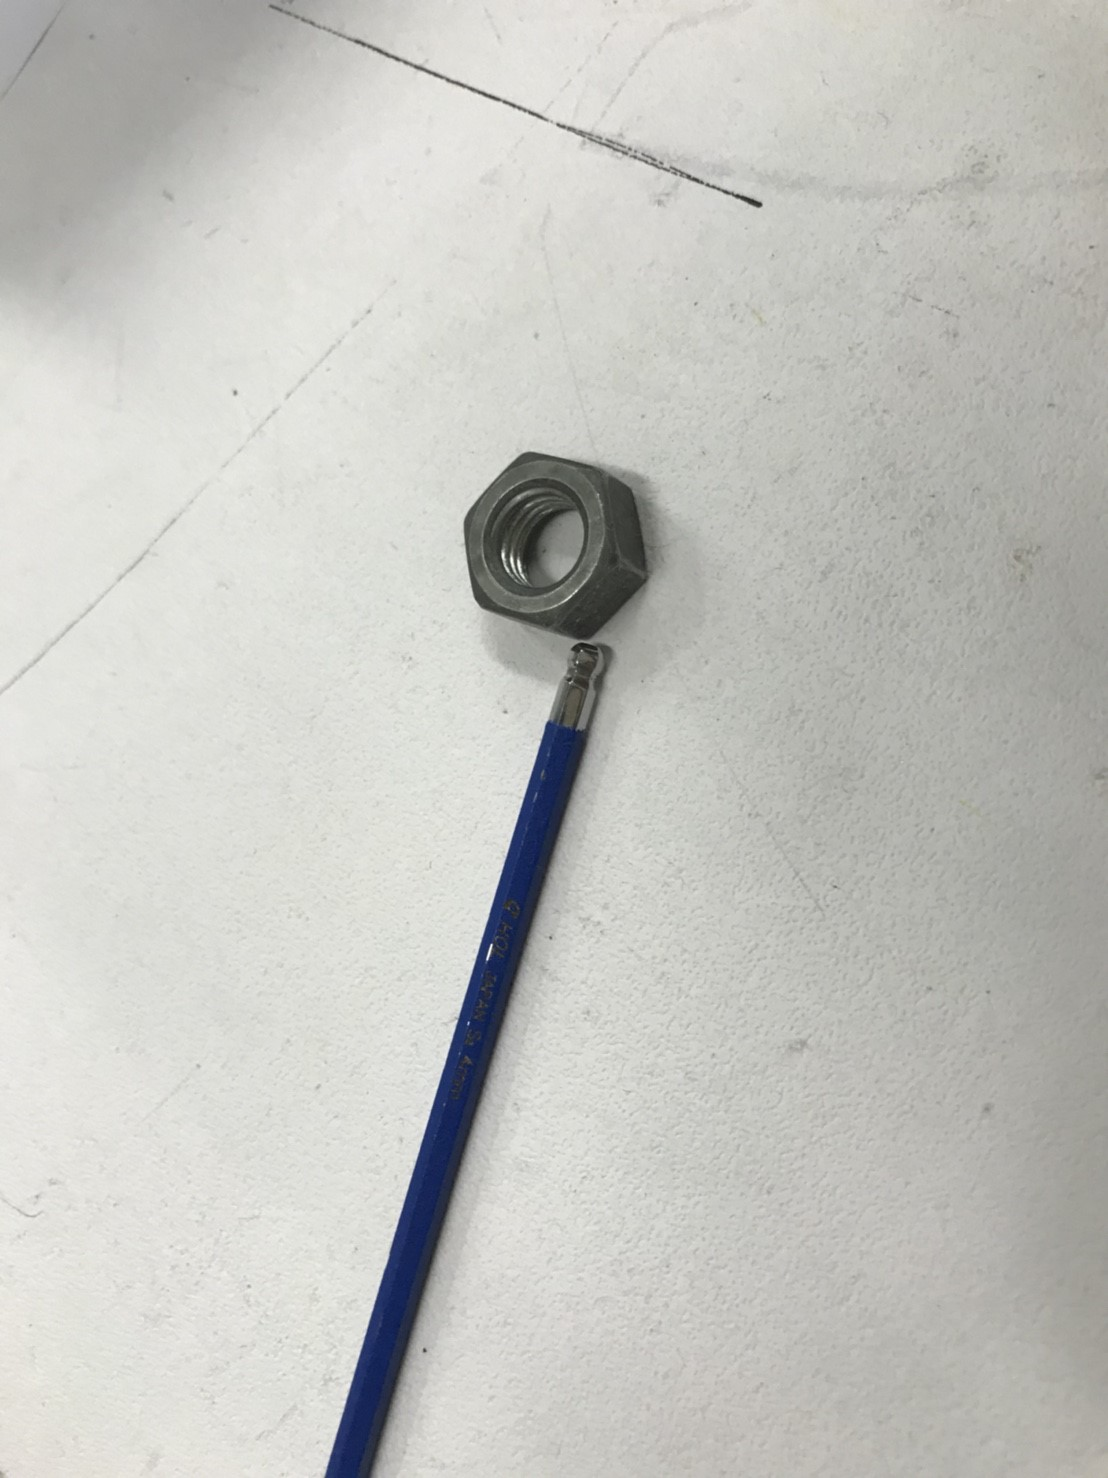nut: (456, 442, 660, 642)
